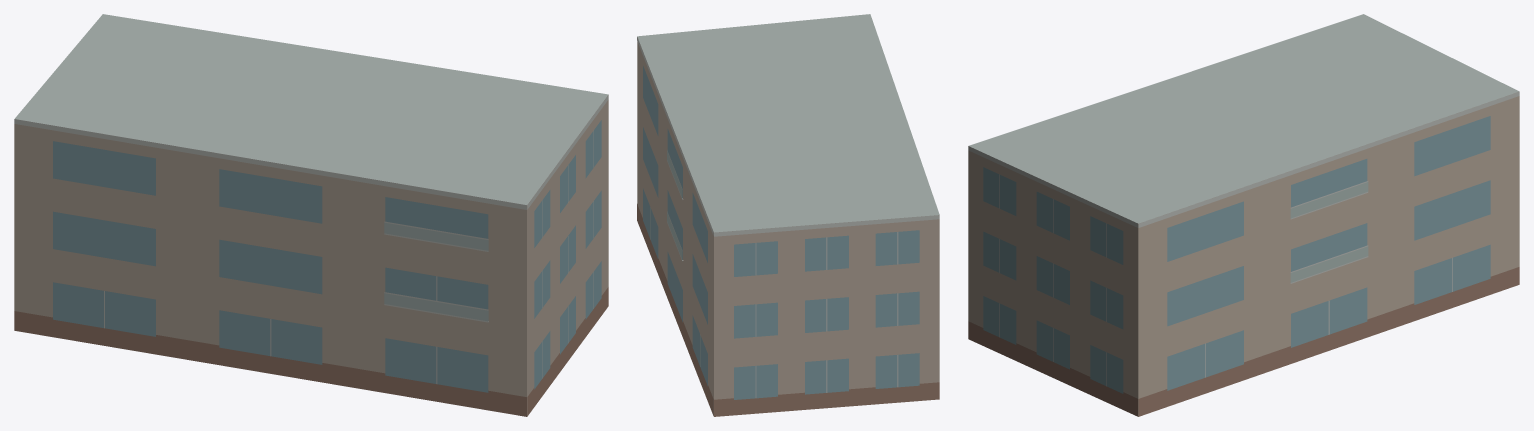
The model's file is survey-upis-33015941.glb.
3 views of the same model, side by side, from view 1: azimuth 30°, elevation 25°; view 2: azimuth 150°, elevation 25°; view 3: azimuth 270°, elevation 25° (orthographic). The views are drawn at different scales.
Visible parts, largest first — view 1: survey-upis-33015941.tmp; view 2: survey-upis-33015941.tmp; view 3: survey-upis-33015941.tmp.
Part boxes in pixels (box(x1,y1,x2,y2)): survey-upis-33015941.tmp: box(14, 14, 608, 416); survey-upis-33015941.tmp: box(637, 14, 939, 416); survey-upis-33015941.tmp: box(968, 14, 1519, 416).
Bounding box in the file's own units: 24.68 × 10.6 × 27.41.
